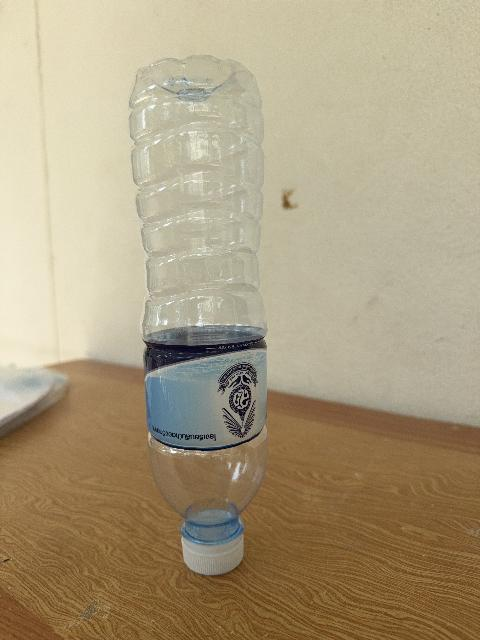bottle: (130, 56, 267, 574)
